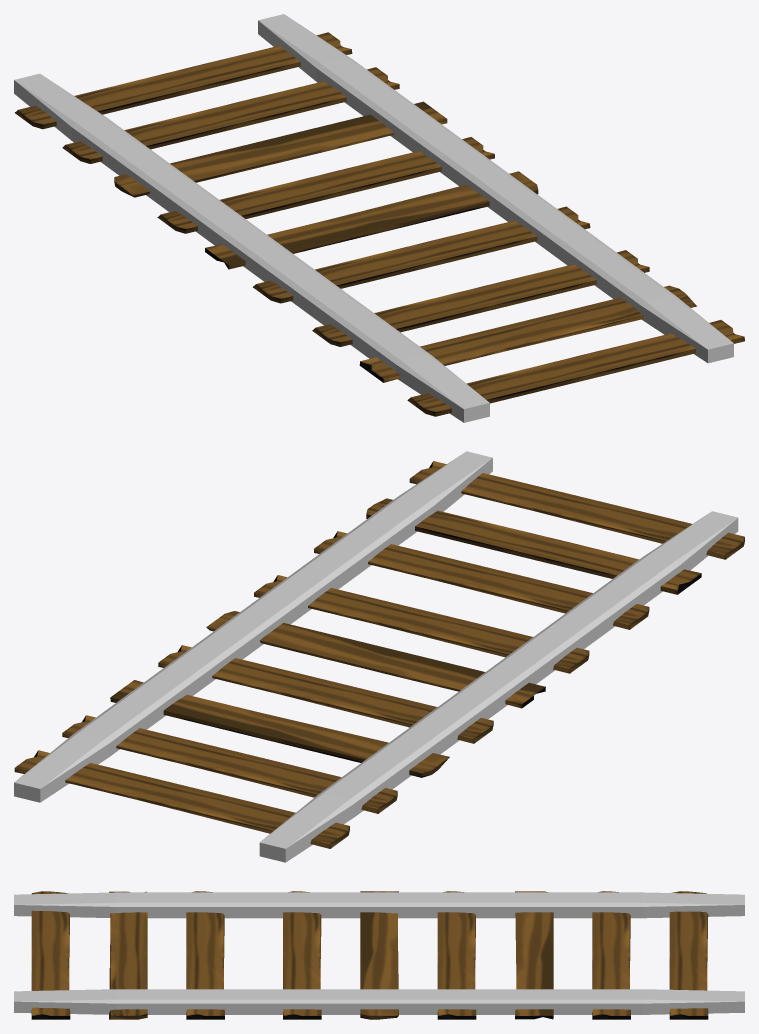
Rendered from trains.obj.
3 renders of one model, top to bottom at view 1: azimuth 30°, elevation 25°; view 2: azimuth 150°, elevation 25°; view 3: azimuth 270°, elevation 25°, orthographic. The views are drawn at different scales.
Parts seen in each view (by area): view 1: Cube.009_Cube.013; view 2: Cube.009_Cube.013; view 3: Cube.009_Cube.013.
Boxes of the visible parts, bbox=[...] form: Cube.009_Cube.013: bbox=[14, 14, 744, 422]; Cube.009_Cube.013: bbox=[14, 451, 744, 862]; Cube.009_Cube.013: bbox=[14, 891, 744, 1019].
Size of the model in its own units: 9.82 by 0.5698 by 24.39.
